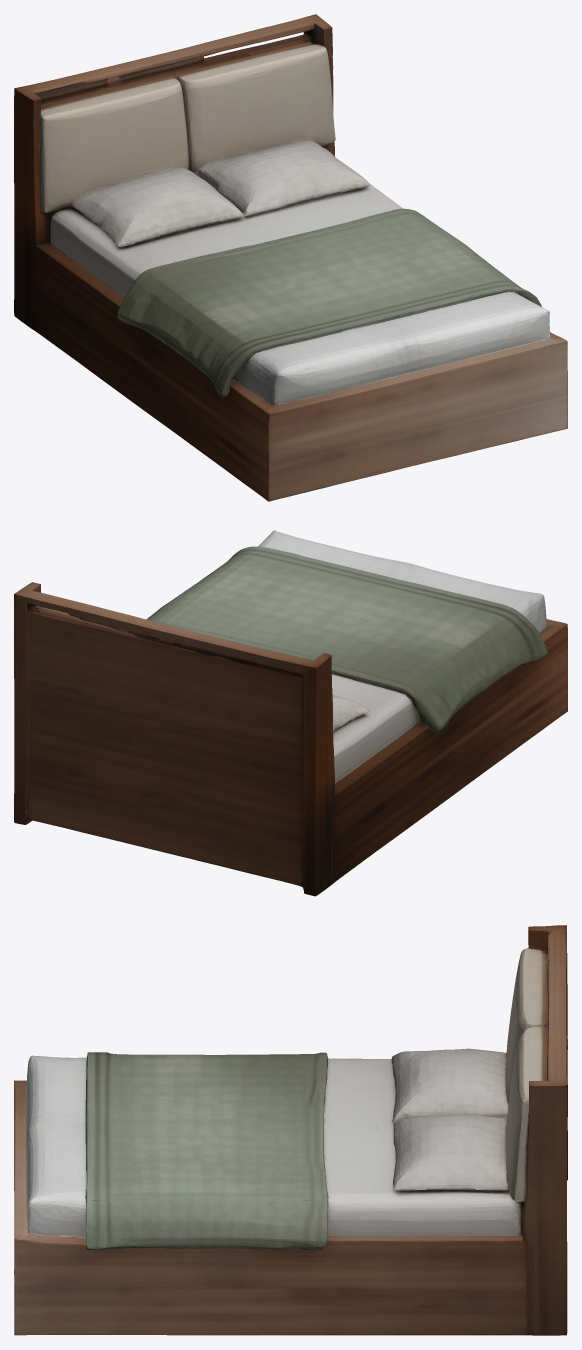
3 views of the same model, one above another, from view 1: azimuth 30°, elevation 25°; view 2: azimuth 150°, elevation 25°; view 3: azimuth 270°, elevation 25° (orthographic). The views are drawn at different scales.
Visible parts, largest first — view 1: world; view 2: world; view 3: world.
Part boxes in pixels (bbox=[...]): world: bbox=[14, 14, 567, 501]; world: bbox=[14, 530, 567, 896]; world: bbox=[14, 925, 567, 1335].
Bounding box in the file's own units: 2 × 1.36 × 2.71.
1 material, 1 textured.
